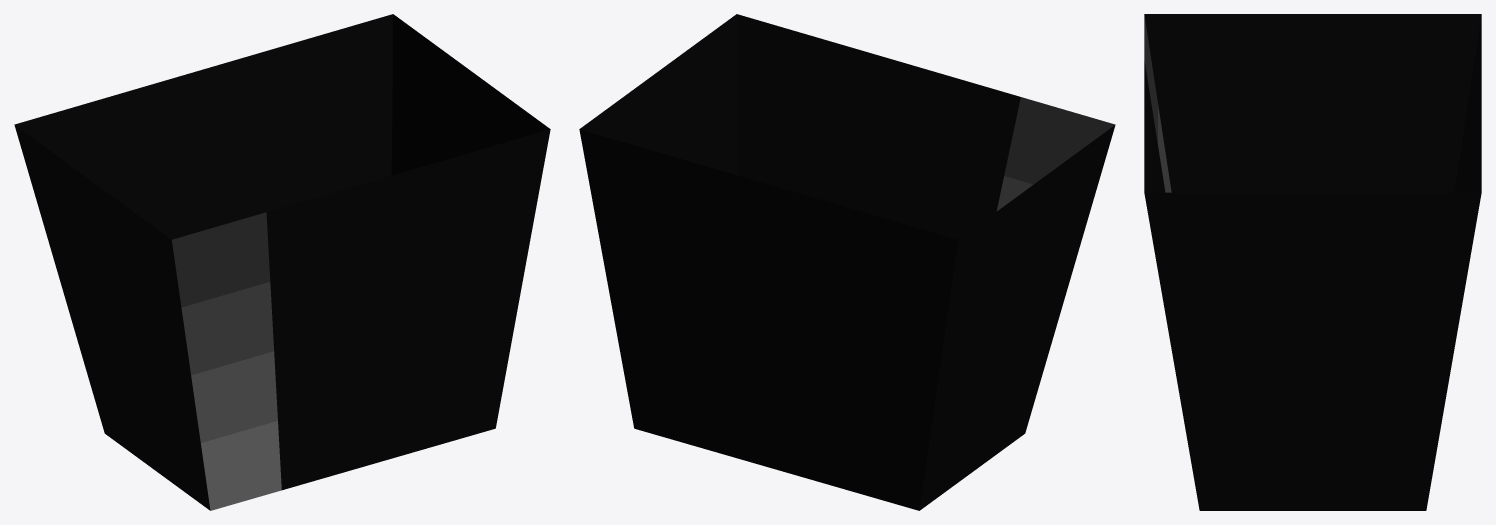
File: Book_Open_Light.fbx
3 renders of one model, left to right at view 1: azimuth 30°, elevation 25°; view 2: azimuth 150°, elevation 25°; view 3: azimuth 270°, elevation 25°, orthographic. The views are drawn at different scales.
Parts seen in each view (by area): view 1: Book_Open_Light; view 2: Book_Open_Light; view 3: Book_Open_Light.
Part boxes in pixels (<box>): Book_Open_Light: <box>14,14,550,510</box>; Book_Open_Light: <box>579,14,1115,510</box>; Book_Open_Light: <box>1144,14,1481,510</box>.
Bounding box in the file's own units: 193 × 158 × 139.
